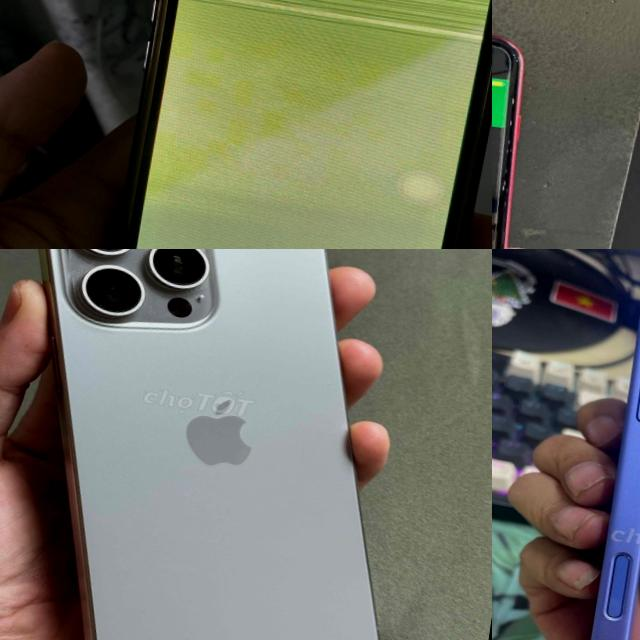scratch: (541, 249, 640, 640)
screen_defect: (146, 11, 482, 191), (117, 153, 457, 249), (171, 0, 492, 50)
